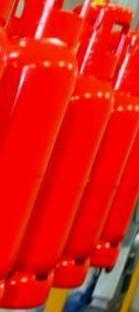cylinder: (1, 1, 139, 312)
